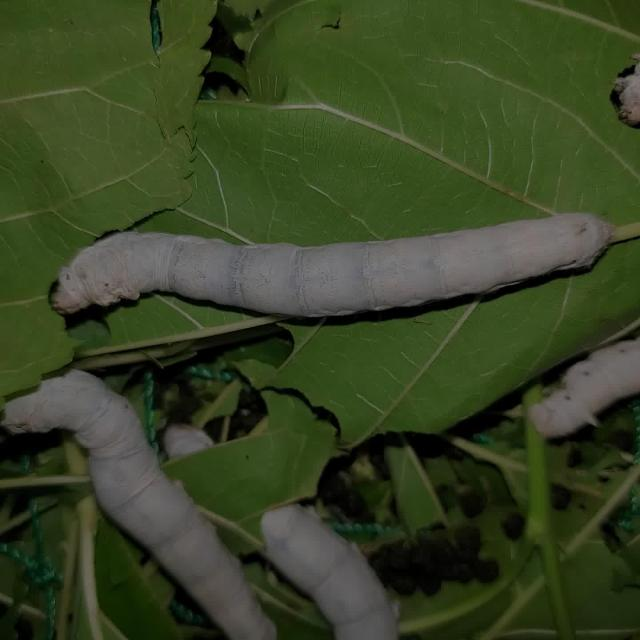Healthy: (44, 193, 628, 337)
